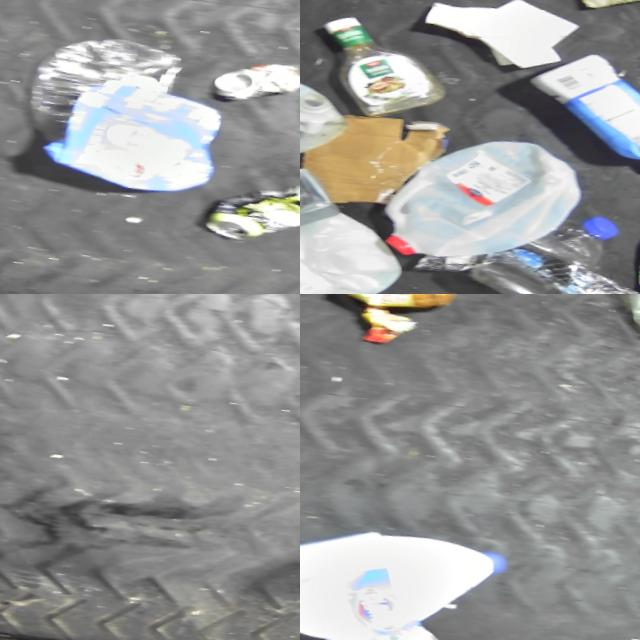can: (203, 174, 300, 264), (209, 55, 300, 122), (331, 294, 466, 329), (341, 614, 460, 640)
milk_jug: (373, 121, 602, 293), (300, 508, 523, 640), (300, 191, 425, 294), (300, 51, 365, 191)
non_white_jug: (510, 42, 640, 194), (300, 142, 357, 262)
plastic_bottle: (23, 24, 192, 166), (467, 203, 633, 294)
